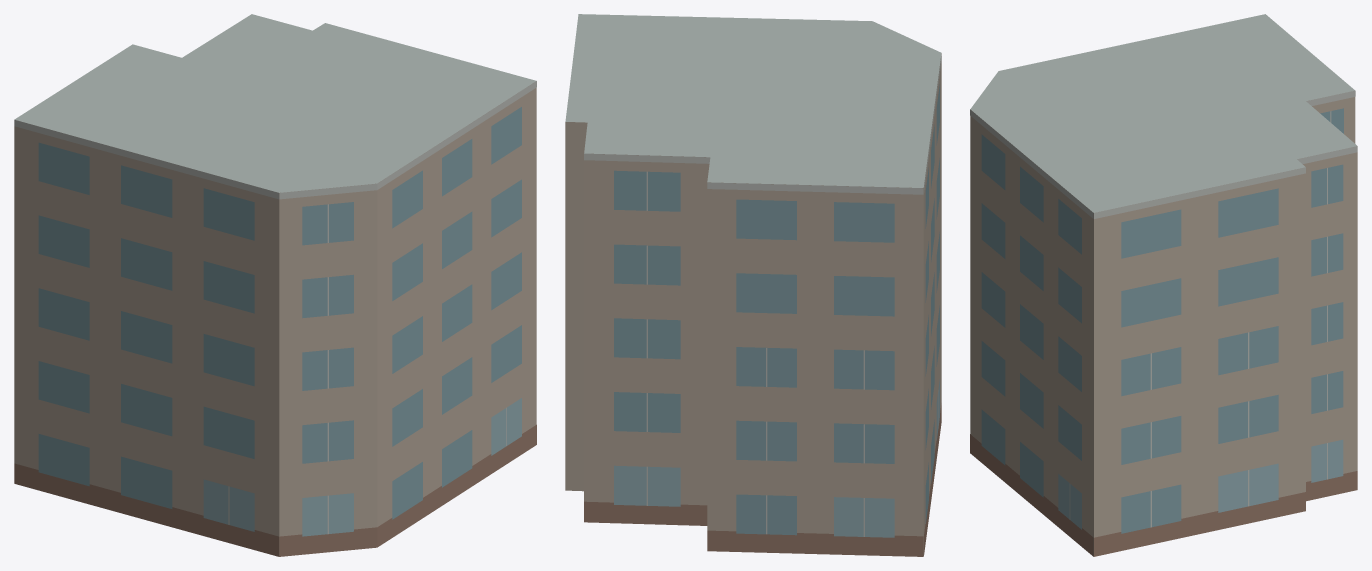
Rendered from survey-upis-32837156.glb.
3 renders of one model, left to right at view 1: azimuth 30°, elevation 25°; view 2: azimuth 150°, elevation 25°; view 3: azimuth 270°, elevation 25°, orthographic. The views are drawn at different scales.
Parts seen in each view (by area): view 1: survey-upis-32837156.tmp; view 2: survey-upis-32837156.tmp; view 3: survey-upis-32837156.tmp.
Boxes of the visible parts, x1,y1,x2,y2 form: survey-upis-32837156.tmp: (14,14,536,556); survey-upis-32837156.tmp: (565,14,941,556); survey-upis-32837156.tmp: (970,14,1357,556).
Bounding box in the file's own units: 16.76 × 13.5 × 13.8.
